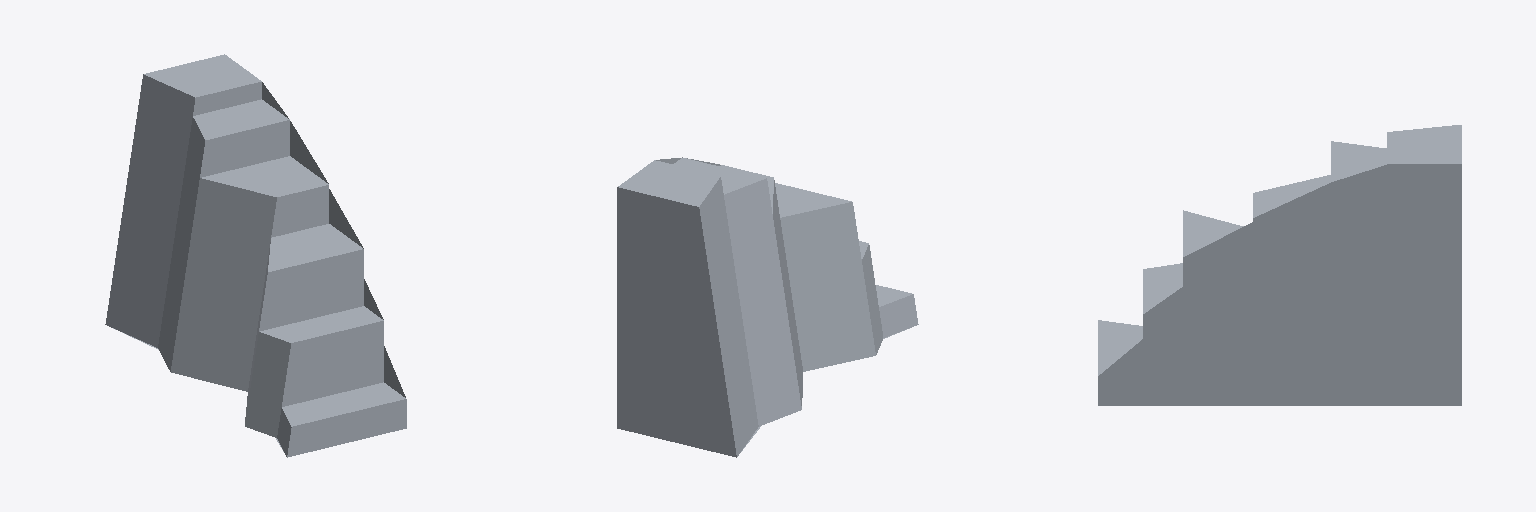
3 views of the same model, side by side, from view 1: azimuth 30°, elevation 25°; view 2: azimuth 150°, elevation 25°; view 3: azimuth 270°, elevation 25° (orthographic).
Visible parts, largest first — view 1: Mesh1 Grey_Cliff_End Model; view 2: Mesh1 Grey_Cliff_End Model; view 3: Mesh1 Grey_Cliff_End Model.
Part boxes in pixels (x1,y1,x2,y2): Mesh1 Grey_Cliff_End Model: (105, 54, 406, 457); Mesh1 Grey_Cliff_End Model: (617, 157, 918, 457); Mesh1 Grey_Cliff_End Model: (1098, 125, 1461, 405).
Size of the model in its own units: 1.14 by 2.2 by 3.
1 materials, 1 textured.